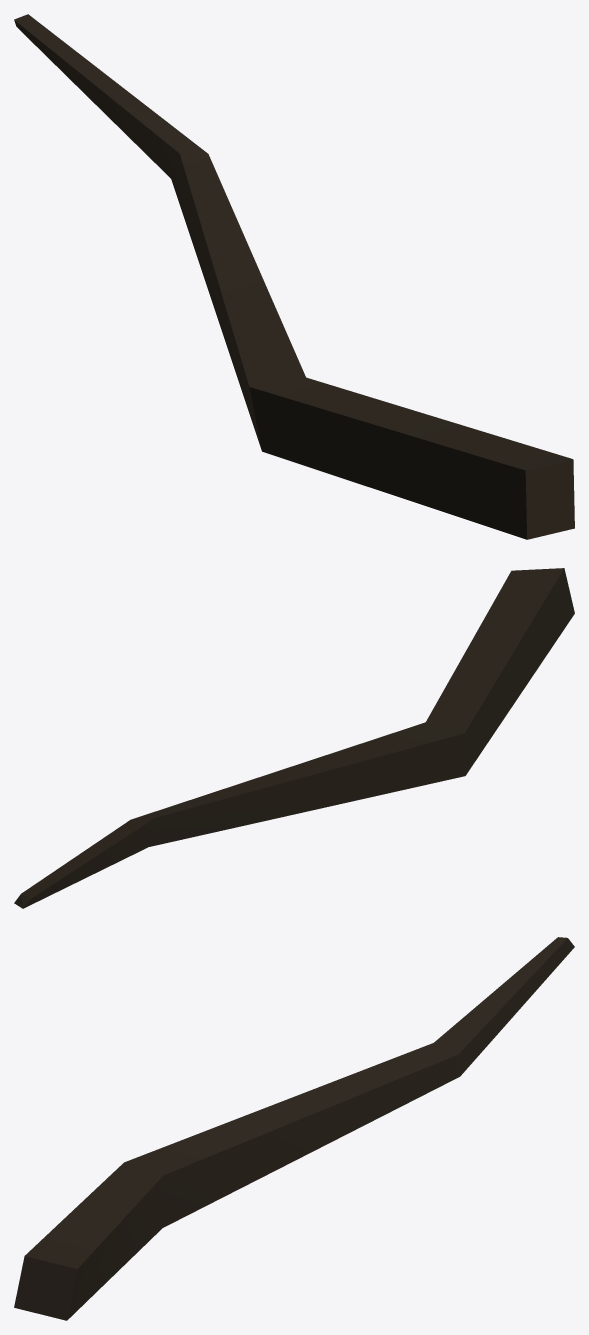
File: synty-tree-twig-04.gltf
3 views of the same model, one above another, from view 1: azimuth 30°, elevation 25°; view 2: azimuth 150°, elevation 25°; view 3: azimuth 330°, elevation 25° (orthographic). The views are drawn at different scales.
Visible parts, largest first — view 1: SM_Tree_Twig_04; view 2: SM_Tree_Twig_04; view 3: SM_Tree_Twig_04.
Part boxes in pixels (x1,y1,x2,y2): SM_Tree_Twig_04: (14, 14, 574, 539); SM_Tree_Twig_04: (14, 568, 574, 908); SM_Tree_Twig_04: (14, 937, 574, 1320).
Size of the model in its own units: 0.0996 by 0.0533 by 0.5424.
1 material, 1 textured.
